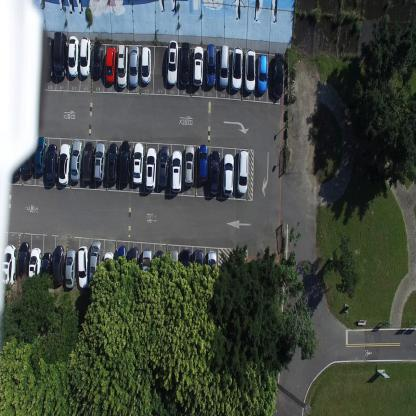car: (53, 31, 67, 80), (2, 242, 17, 286), (88, 240, 102, 286), (17, 240, 30, 286), (208, 150, 220, 198), (236, 148, 248, 196), (28, 246, 41, 290), (58, 142, 71, 186), (45, 142, 58, 186), (166, 40, 178, 86), (272, 52, 284, 98), (231, 45, 243, 91), (145, 146, 157, 191), (115, 245, 127, 290), (244, 48, 256, 93), (116, 44, 128, 89), (222, 154, 234, 198), (157, 145, 169, 189), (218, 44, 230, 88), (67, 34, 79, 78), (41, 36, 53, 80), (132, 141, 144, 185), (119, 140, 131, 184), (40, 251, 52, 294), (192, 44, 204, 87), (70, 139, 82, 182), (141, 248, 153, 290), (77, 246, 89, 288), (79, 35, 91, 77), (106, 142, 118, 184), (82, 140, 94, 182), (205, 43, 216, 88), (127, 247, 139, 288), (64, 248, 76, 289), (128, 44, 139, 88), (256, 54, 268, 94), (92, 39, 104, 79), (93, 142, 105, 182), (22, 137, 34, 177), (180, 249, 191, 292), (10, 137, 21, 180), (34, 136, 46, 175), (193, 250, 204, 292), (53, 244, 64, 286), (105, 44, 116, 86), (180, 40, 190, 86), (172, 149, 182, 193), (103, 251, 114, 291), (168, 249, 178, 292), (184, 146, 194, 188), (206, 250, 216, 291), (198, 144, 208, 184), (154, 250, 164, 290), (141, 46, 151, 85)
